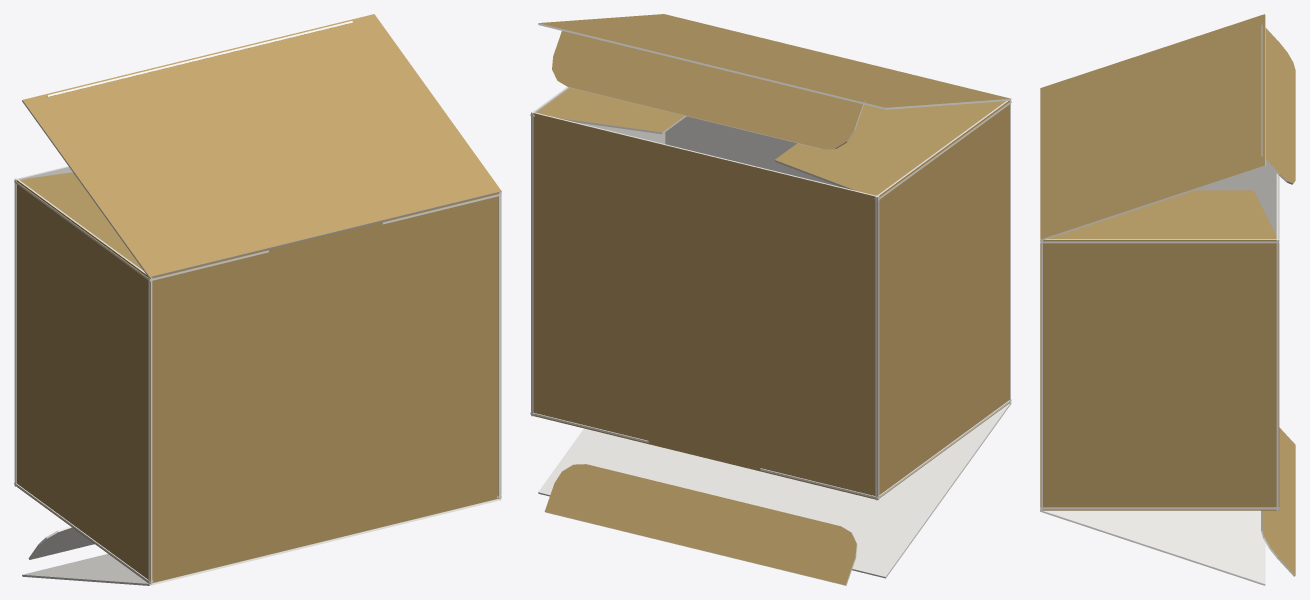
3 views of the same model, side by side, from view 1: azimuth 30°, elevation 25°; view 2: azimuth 150°, elevation 25°; view 3: azimuth 270°, elevation 25° (orthographic). The views are drawn at different scales.
Visible parts, largest first — view 1: Packive_Box_fefco0210; view 2: Packive_Box_fefco0210; view 3: Packive_Box_fefco0210.
Part boxes in pixels (left/top/right/bottom): Packive_Box_fefco0210: left=14, top=14, right=501, bottom=585; Packive_Box_fefco0210: left=530, top=14, right=1011, bottom=585; Packive_Box_fefco0210: left=1040, top=14, right=1295, bottom=585.
Bounding box in the file's own units: 0.3 × 0.3893 × 0.2135.
Materials: 24 (12 with a texture image).
